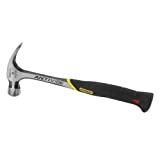hammer: (5, 41, 154, 113)
